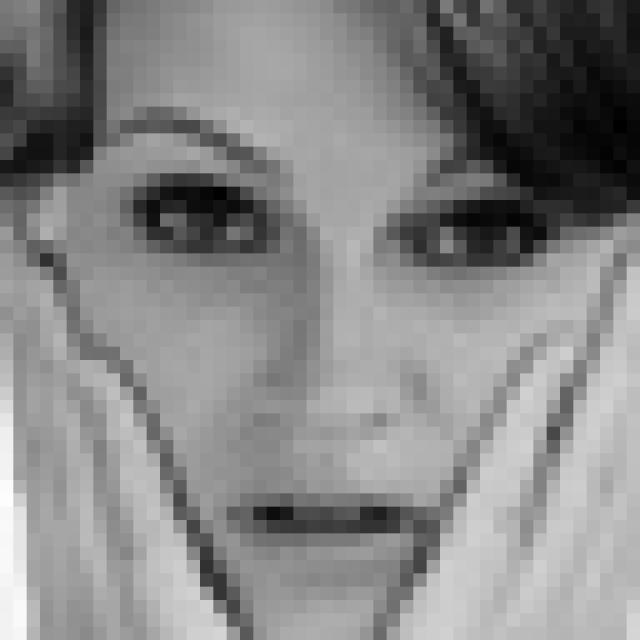fear: (98, 104, 565, 590)
